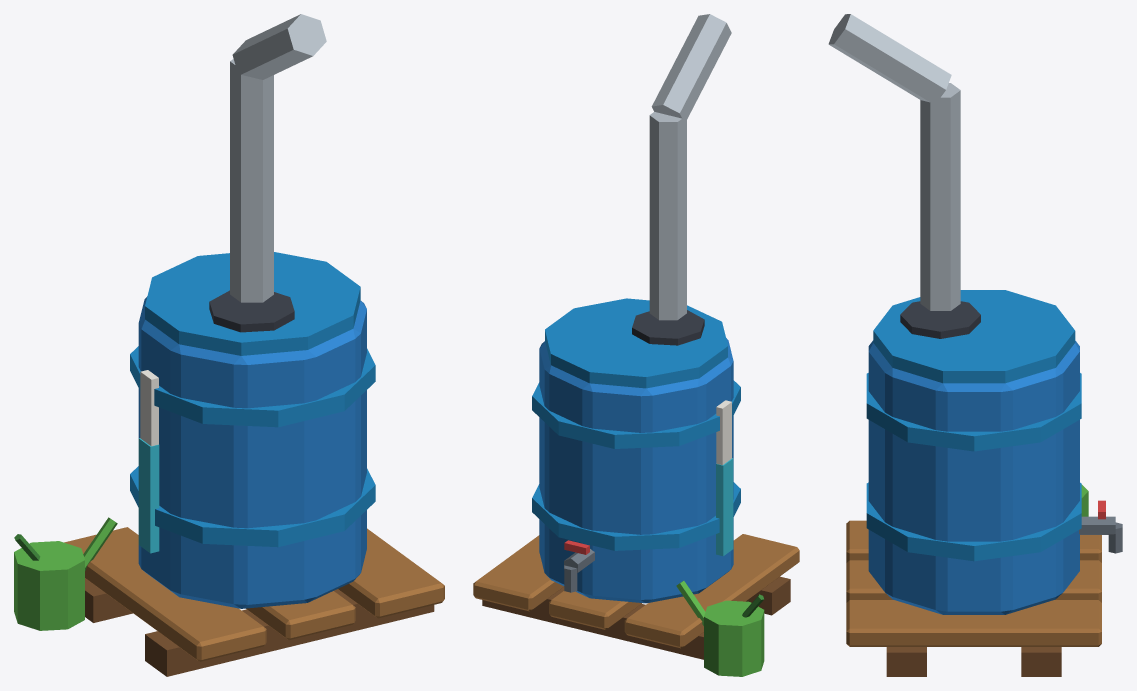
The model's file is barril_chuva.glb.
3 renders of one model, left to right at view 1: azimuth 30°, elevation 25°; view 2: azimuth 150°, elevation 25°; view 3: azimuth 270°, elevation 25°, orthographic. The views are drawn at different scales.
Parts seen in each view (by area): view 1: corpo; view 2: corpo; view 3: corpo.
Boxes of the visible parts, left/top/right/bottom form: corpo: left=14, top=14, right=444, bottom=676; corpo: left=473, top=14, right=799, bottom=676; corpo: left=828, top=14, right=1122, bottom=676.
Bounding box in the file's own units: 0.5146 × 0.975 × 0.437.
